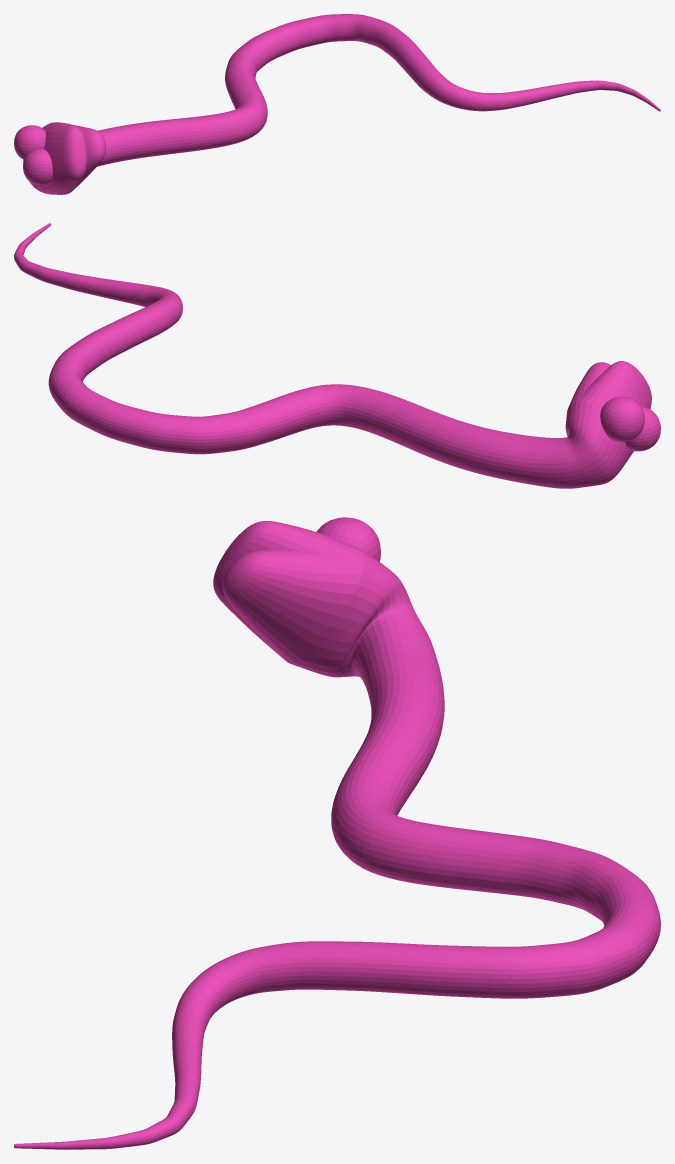
Rendered from snake1.glb.
The picture shows the model from 3 angles, top to bottom: view 1: azimuth 30°, elevation 25°; view 2: azimuth 150°, elevation 25°; view 3: azimuth 270°, elevation 25°; orthographic projection. The views are drawn at different scales.
Visible parts, largest first — view 1: Cube.005; view 2: Cube.005; view 3: Cube.005.
Part boxes in pixels (x1,y1,x2,y2): Cube.005: [14, 14, 660, 194]; Cube.005: [14, 223, 660, 488]; Cube.005: [14, 517, 660, 1149].
Bounding box in the file's own units: 1.1 × 0.1487 × 0.5611.
